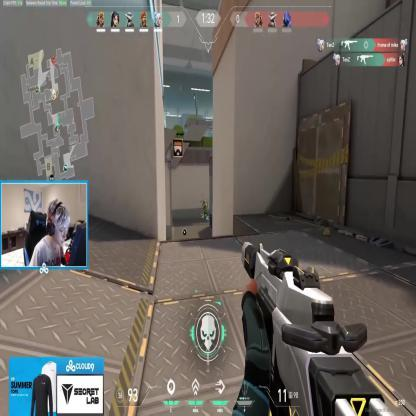enemy: (204, 201, 207, 217)
enemy_head: (204, 200, 206, 203)
